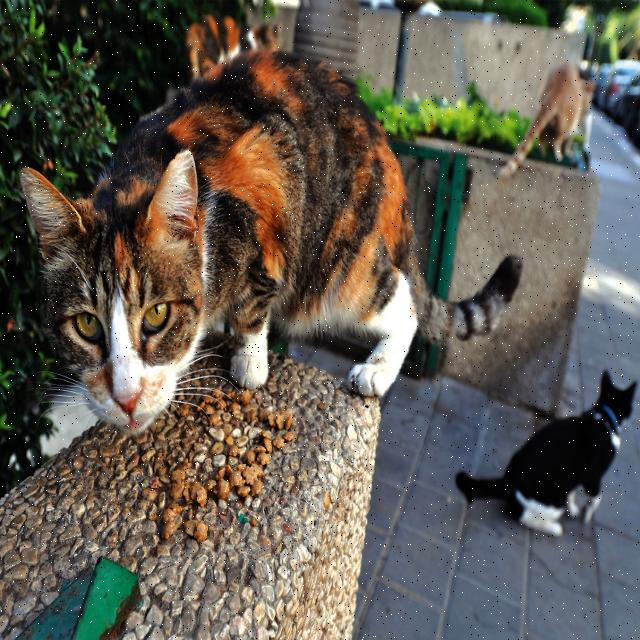cat: (21, 51, 521, 434), (456, 372, 636, 537), (499, 63, 594, 178)
